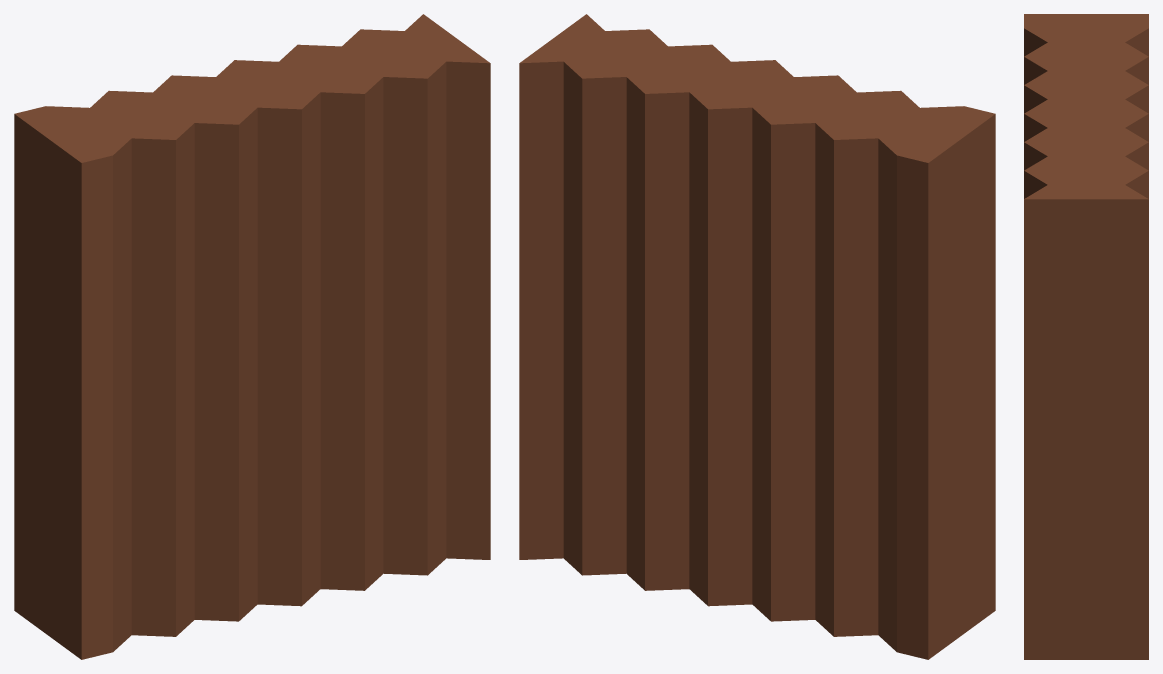
Rendered from wooden_wall.glb.
The picture shows the model from 3 angles, left to right: view 1: azimuth 30°, elevation 25°; view 2: azimuth 150°, elevation 25°; view 3: azimuth 270°, elevation 25°; orthographic projection. The views are drawn at different scales.
Parts seen in each view (by area): view 1: WoodenWall; view 2: WoodenWall; view 3: WoodenWall.
Part boxes in pixels (x1,y1,x2,y2): WoodenWall: [14, 14, 490, 659]; WoodenWall: [519, 14, 995, 659]; WoodenWall: [1024, 14, 1148, 659].
Size of the model in its own units: 1.73 by 2.01 by 0.4938.
Materials: 1 (1 with a texture image).
